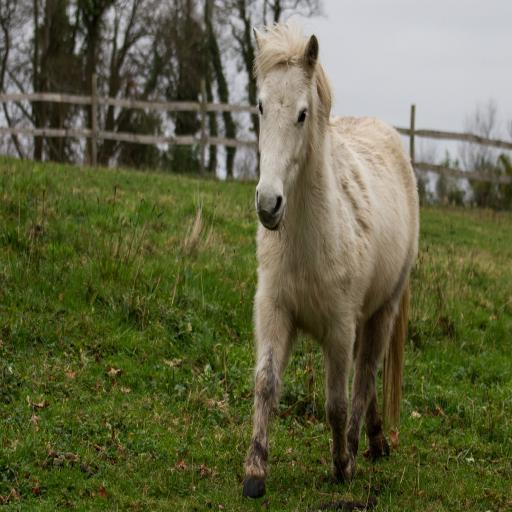horse: (242, 24, 420, 500)
